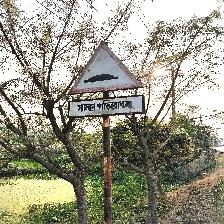Speed-breaker: (67, 42, 146, 119)
